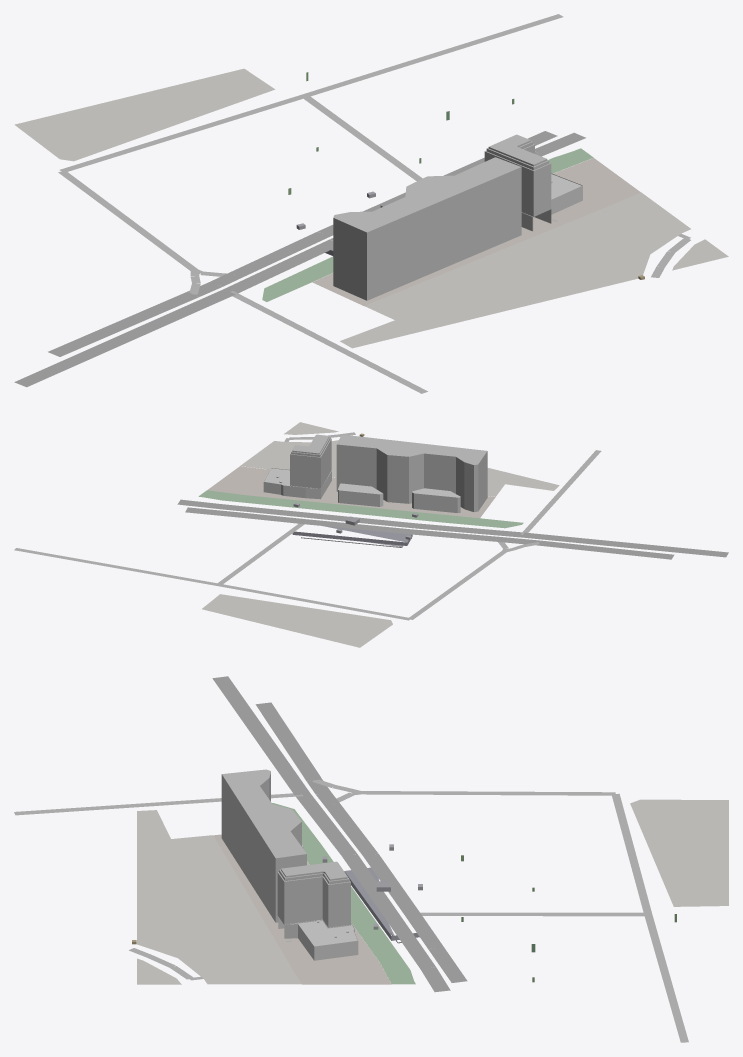
3 renders of one model, top to bottom at view 1: azimuth 30°, elevation 25°; view 2: azimuth 150°, elevation 25°; view 3: azimuth 270°, elevation 25°, orthographic. The views are drawn at different scales.
Bounding box in the file's own units: 726 × 83.13 × 604.
